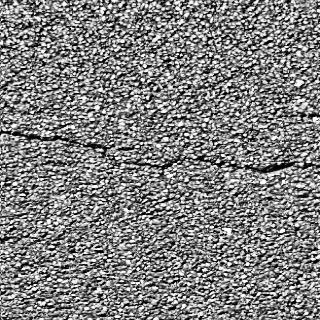crack: (4, 116, 318, 183)
